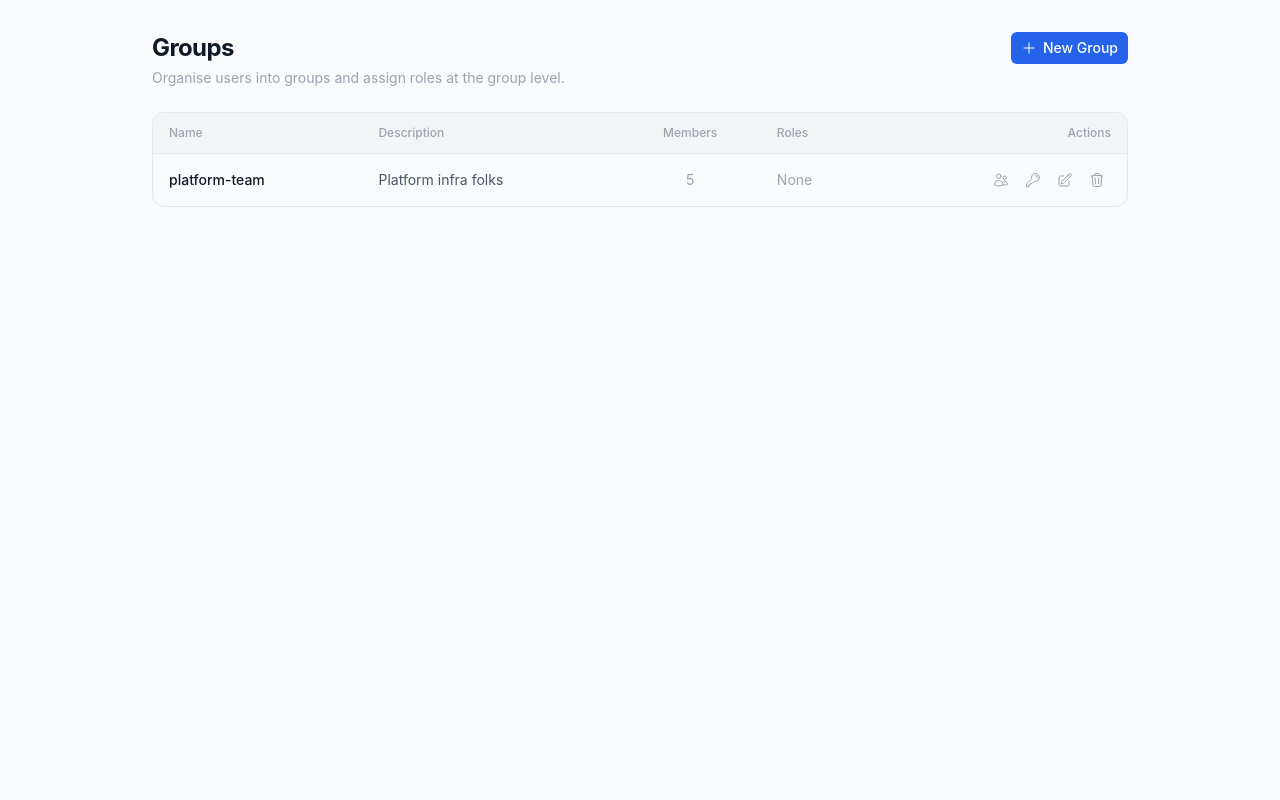
Test: GroupsPage — create group › shows an error message when create fails
What coordinates should you click on to do the following:
click the button "New Group"
I would click on:
 (1069, 48)
Its box is [1011,32,1128,64].
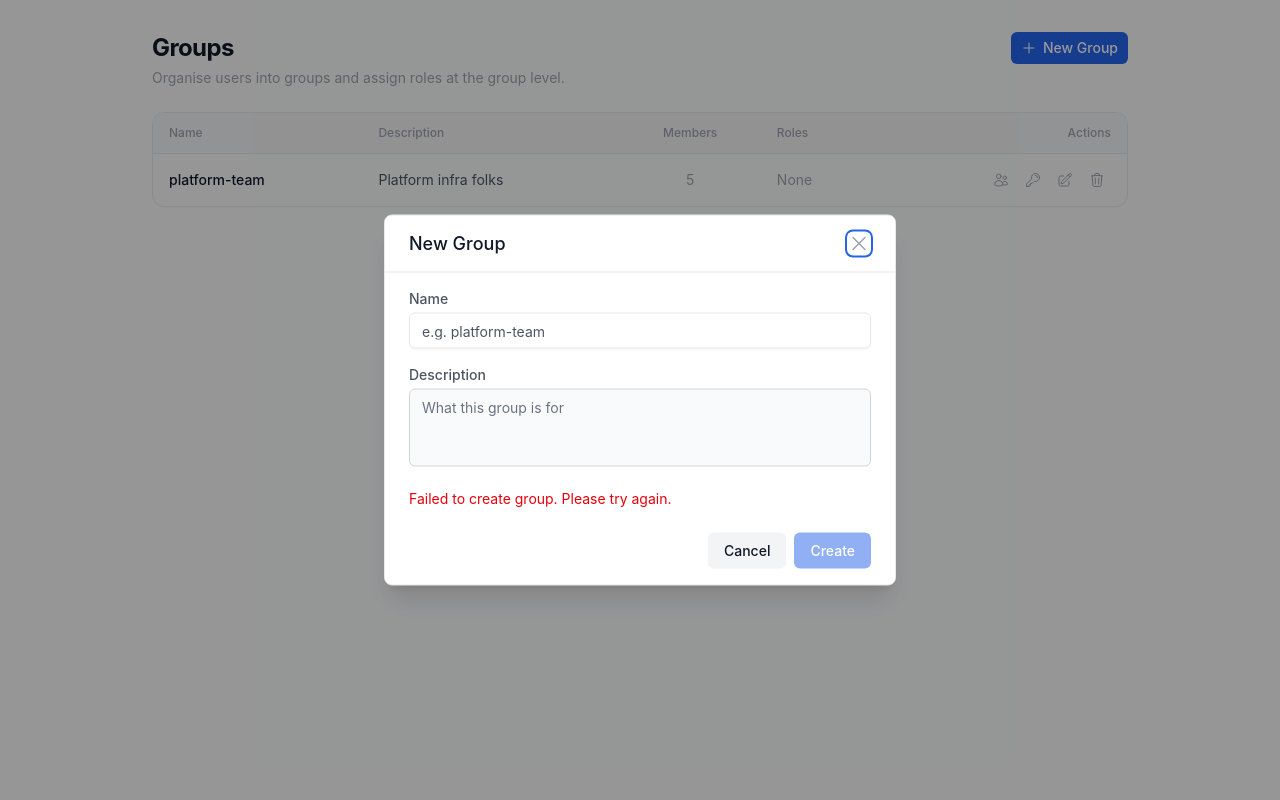
expect the text "Failed to create group. Please try again." is shown: met, box [409,490,672,506]
